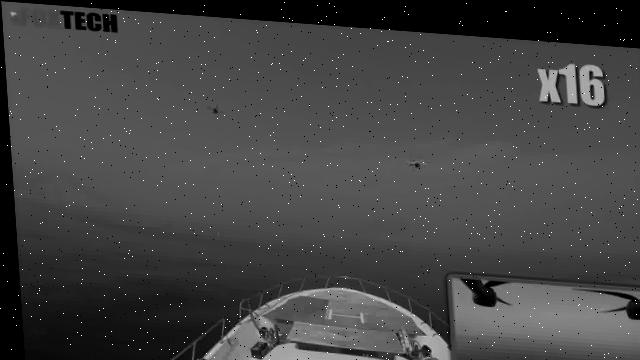drone: (189, 83, 237, 131)
